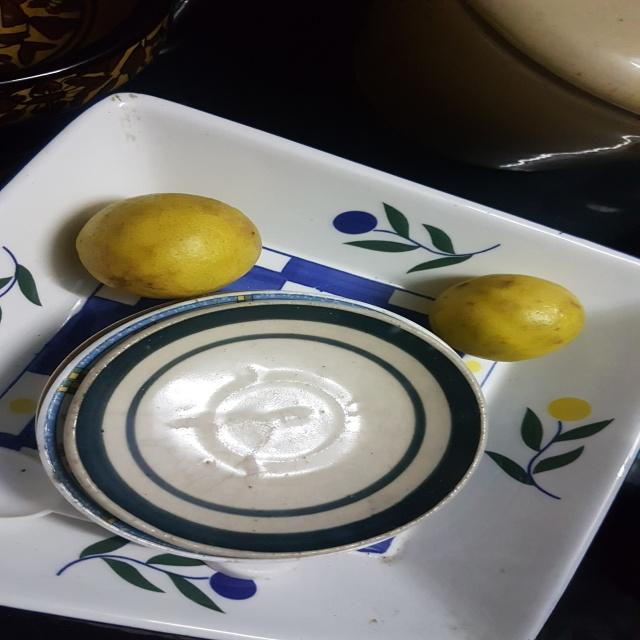lemon: (72, 180, 271, 311), (419, 255, 595, 372)
